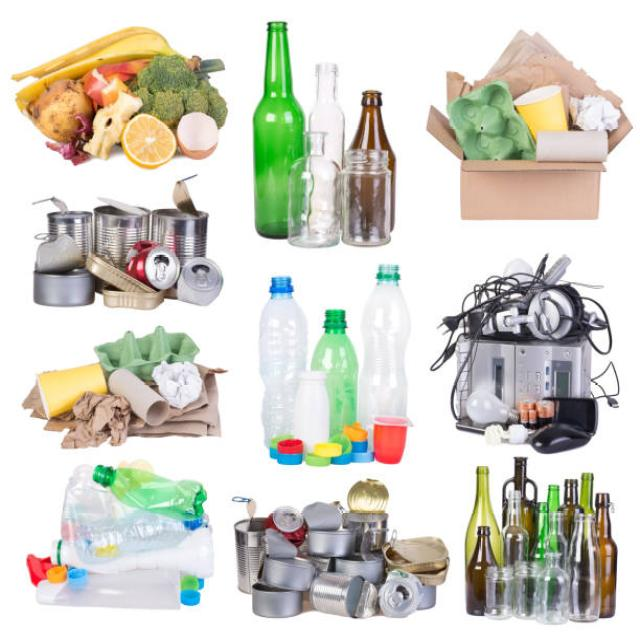cardboard: (432, 32, 640, 213), (17, 323, 228, 455)
glass: (251, 12, 397, 243), (462, 453, 622, 624)
metal: (233, 482, 452, 616), (23, 178, 229, 312)
plastic: (260, 272, 420, 464), (19, 459, 214, 614)
